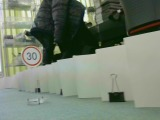speed_30: (21, 46, 42, 68)
